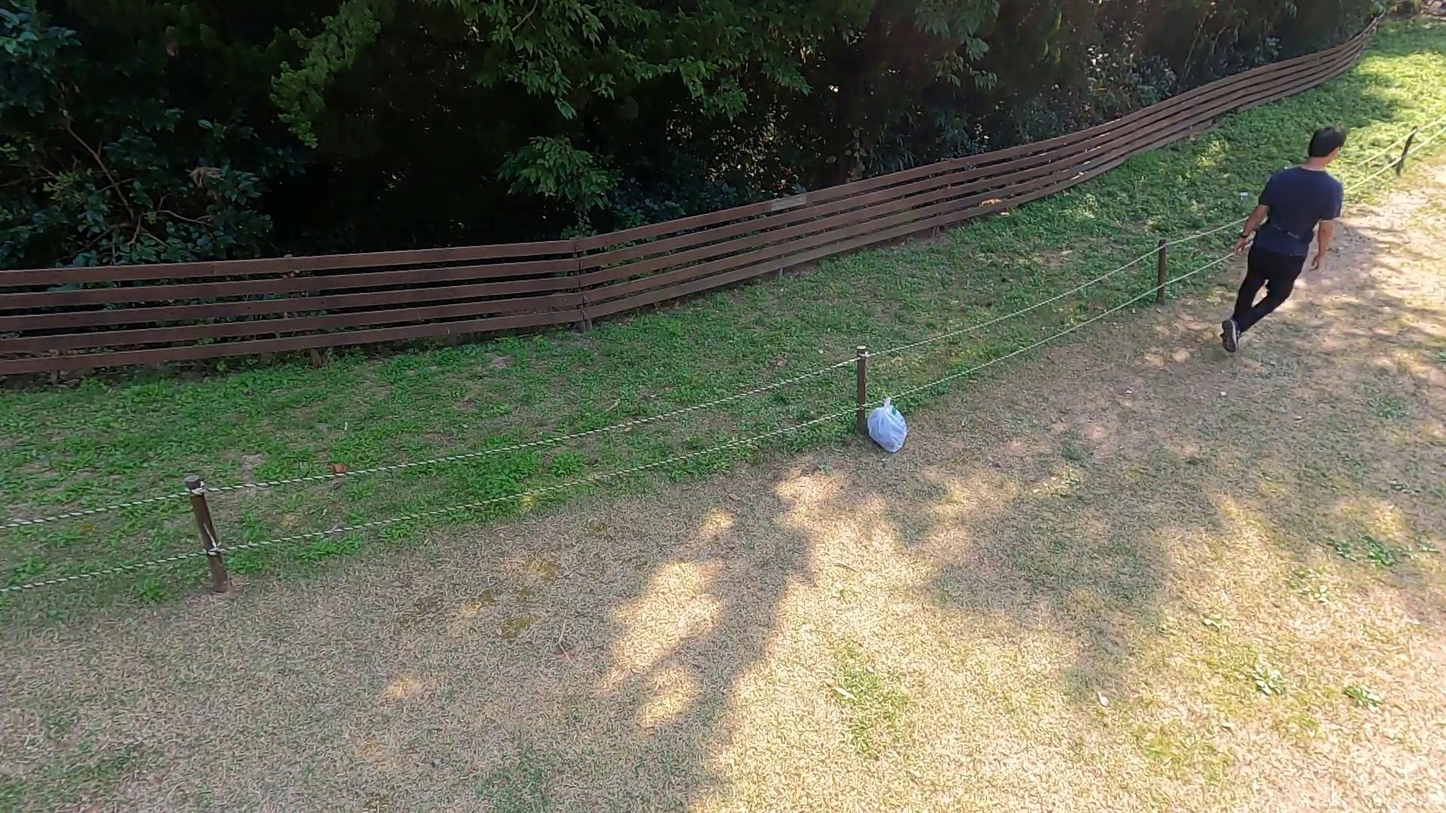person: (1211, 119, 1361, 357)
trash: (859, 396, 917, 457)
